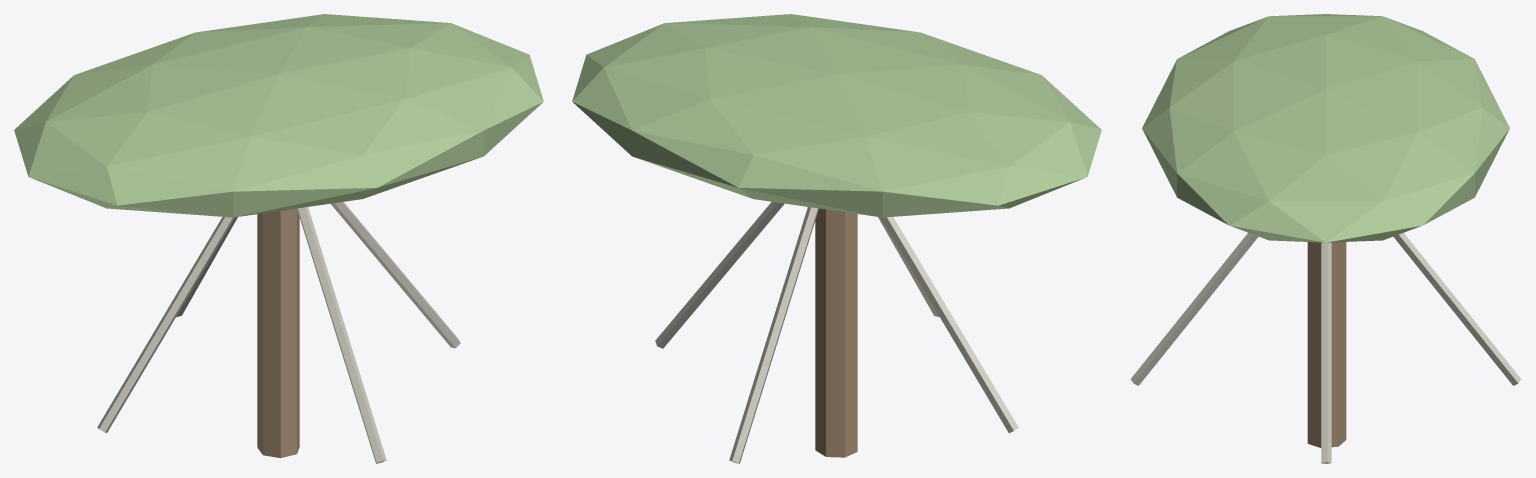
The model's file is nursery_canopy.glb.
3 views of the same model, side by side, from view 1: azimuth 30°, elevation 25°; view 2: azimuth 150°, elevation 25°; view 3: azimuth 270°, elevation 25° (orthographic). The views are drawn at different scales.
Visible parts, largest first — view 1: Canopy, CentralStake, Tie_1, Tie_2, Tie_0; view 2: Canopy, CentralStake, Tie_3, Tie_2, Tie_0; view 3: Canopy, CentralStake, Tie_0, Tie_1, Tie_3.
Part boxes in pixels (<box>): Canopy: <box>14,14,543,217</box>; CentralStake: <box>257,208,299,458</box>; Tie_1: <box>297,207,386,463</box>; Tie_2: <box>97,217,234,432</box>; Tie_0: <box>331,202,460,348</box>; Canopy: <box>572,14,1101,217</box>; CentralStake: <box>815,208,857,457</box>; Tie_3: <box>729,207,818,463</box>; Tie_2: <box>880,217,1018,433</box>; Tie_0: <box>655,202,784,348</box>; Canopy: <box>1142,14,1509,242</box>; CentralStake: <box>1307,242,1346,447</box>; Tie_0: <box>1321,242,1331,463</box>; Tie_1: <box>1130,232,1258,385</box>; Tie_3: <box>1393,232,1521,385</box>.
Bounding box in the file's own units: 2.12 × 1.52 × 1.54.
